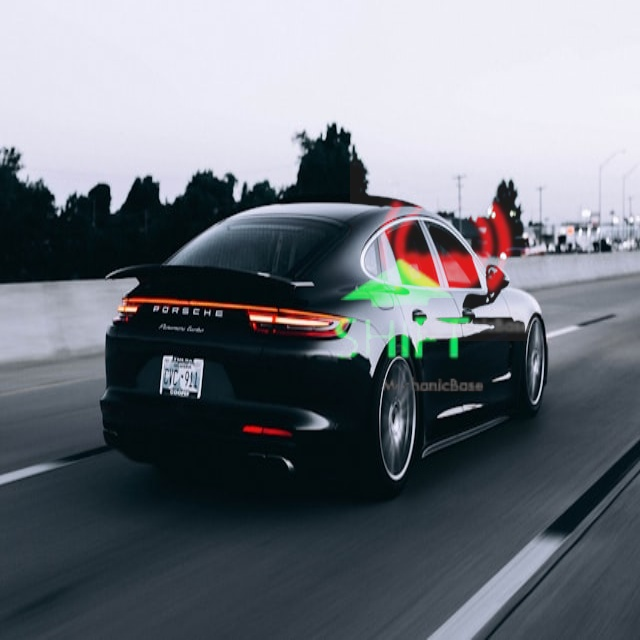symbol: (350, 154, 537, 341), (312, 222, 490, 400)
